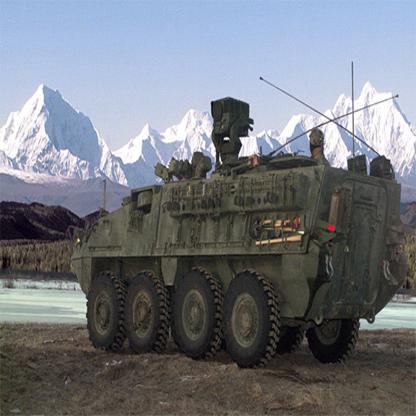Tank: (66, 144, 412, 369)
